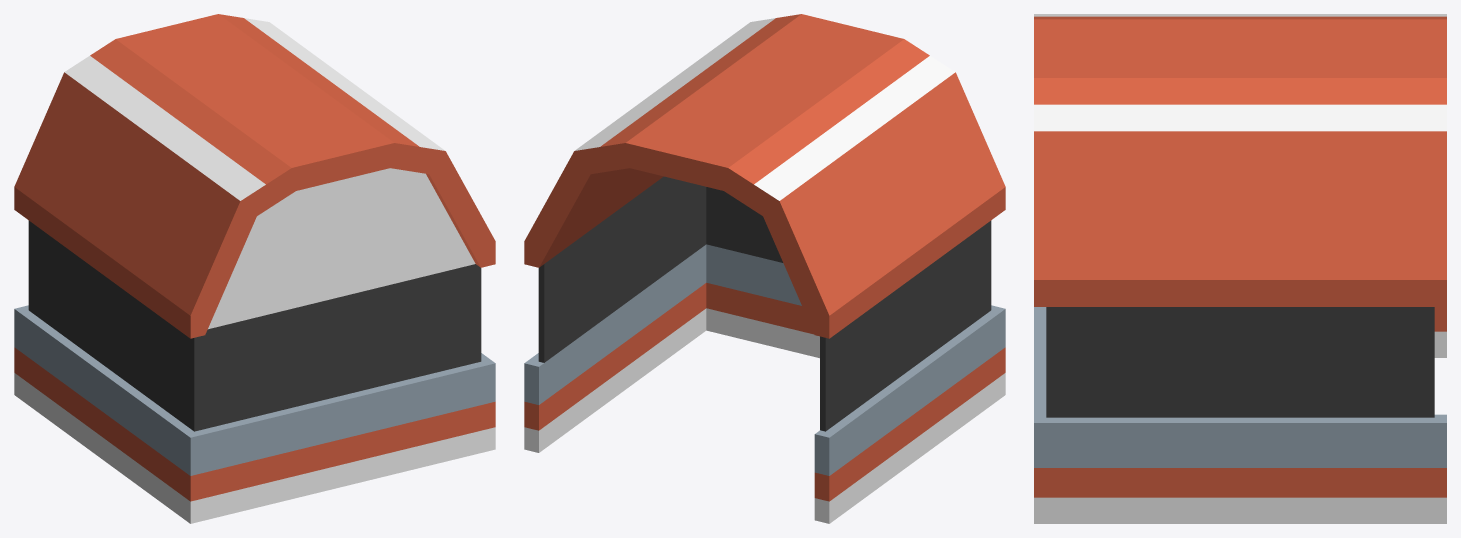
Rendered from buildingCorridorOpenEnd.glb.
3 views of the same model, side by side, from view 1: azimuth 30°, elevation 25°; view 2: azimuth 150°, elevation 25°; view 3: azimuth 270°, elevation 25° (orthographic). The views are drawn at different scales.
Parts seen in each view (by area): view 1: buildingCorridorOpenEnd; view 2: buildingCorridorOpenEnd; view 3: buildingCorridorOpenEnd.
Part boxes in pixels (x1=…): buildingCorridorOpenEnd: x1=14, y1=14, x2=495, y2=523; buildingCorridorOpenEnd: x1=524, y1=14, x2=1005, y2=523; buildingCorridorOpenEnd: x1=1034, y1=14, x2=1446, y2=523.
Bounding box in the file's own units: 10 × 10.37 × 10.
